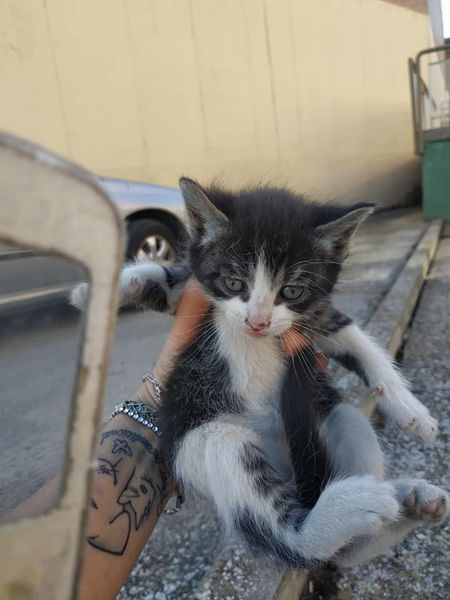cat: (146, 150, 448, 569)
